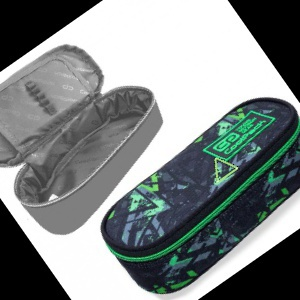triangle: (212, 156, 239, 185)
